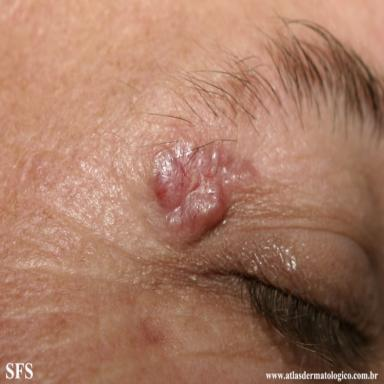basal-cell-carcinoma: (153, 143, 257, 245)
